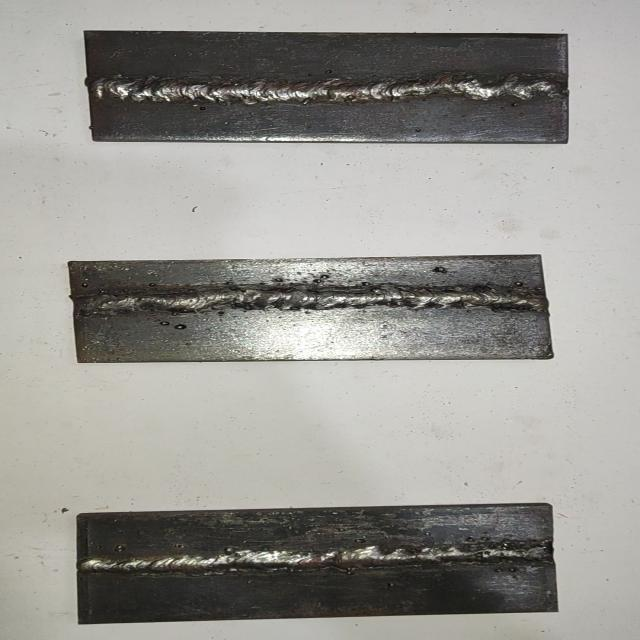Bad Weld: (85, 544, 548, 574), (90, 74, 563, 101)
Defect: (473, 536, 554, 578), (451, 72, 565, 100)
Good Weld: (77, 288, 547, 318)
